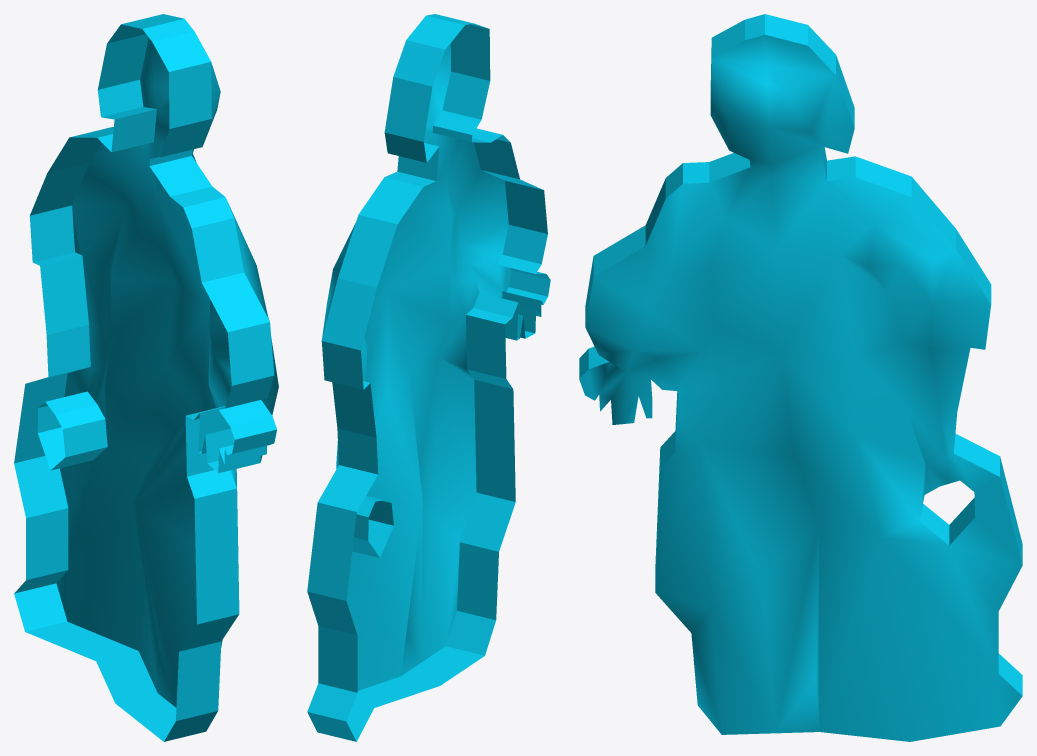
The picture shows the model from 3 angles, left to right: view 1: azimuth 30°, elevation 25°; view 2: azimuth 150°, elevation 25°; view 3: azimuth 270°, elevation 25°; orthographic projection. The views are drawn at different scales.
Parts seen in each view (by area): view 1: Object078; view 2: Object078; view 3: Object078.
Boxes of the visible parts, <box> form: Object078: <box>14,14,278,741</box>; Object078: <box>307,14,550,741</box>; Object078: <box>579,14,1022,741</box>.
Size of the model in its own units: 43.64 by 381 by 219.
